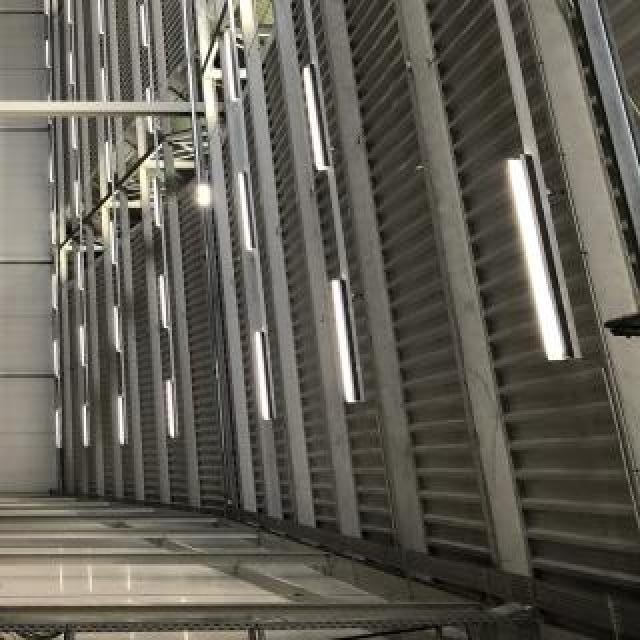fluorescent tube: (493, 138, 587, 375), (320, 269, 367, 409), (298, 60, 335, 178), (229, 167, 260, 257), (249, 325, 276, 427), (157, 369, 186, 451), (226, 18, 246, 107), (155, 267, 173, 342), (97, 140, 119, 191), (71, 234, 89, 295), (73, 316, 91, 376), (138, 0, 160, 48), (149, 171, 166, 233), (110, 386, 127, 446), (60, 44, 79, 91), (67, 173, 84, 225), (140, 85, 156, 140), (44, 334, 61, 384), (105, 216, 119, 268), (78, 396, 90, 455), (109, 303, 122, 356), (68, 110, 83, 155), (43, 204, 57, 250), (39, 36, 55, 76), (94, 67, 110, 105), (45, 271, 58, 317), (41, 149, 55, 189), (51, 400, 61, 455), (60, 0, 74, 30), (96, 0, 106, 40), (40, 0, 52, 18)
